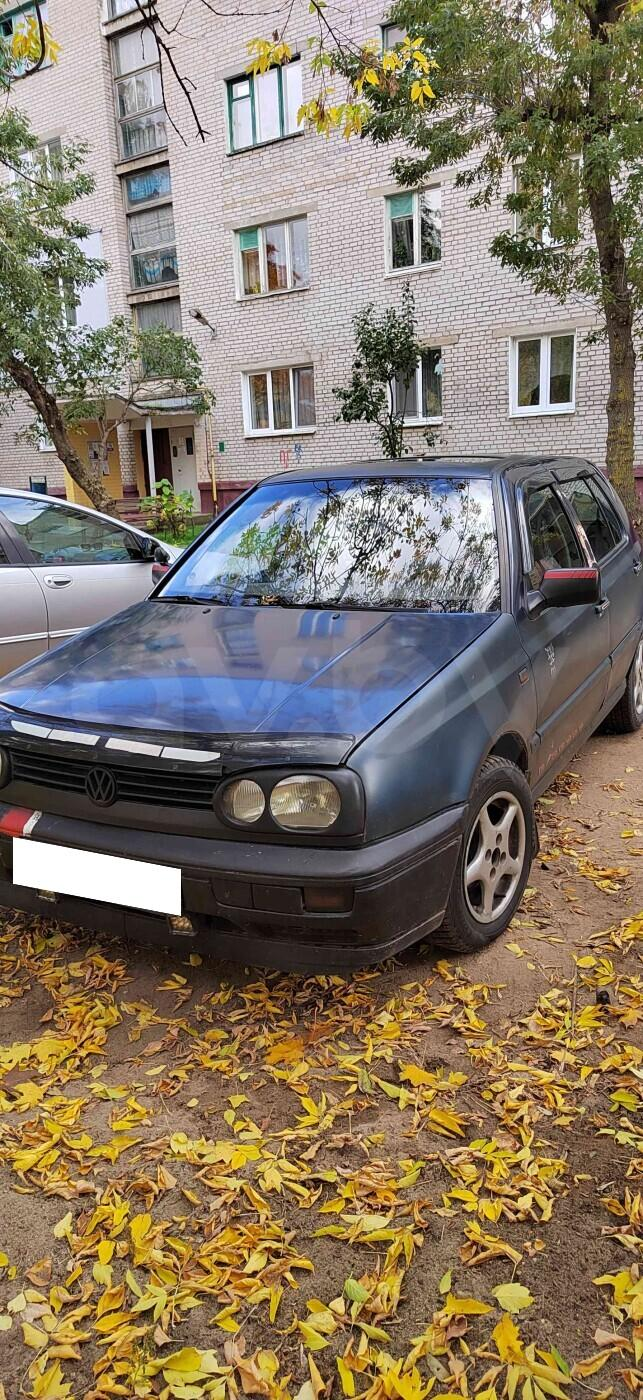Golf_1991-2000: (0, 448, 643, 980)
